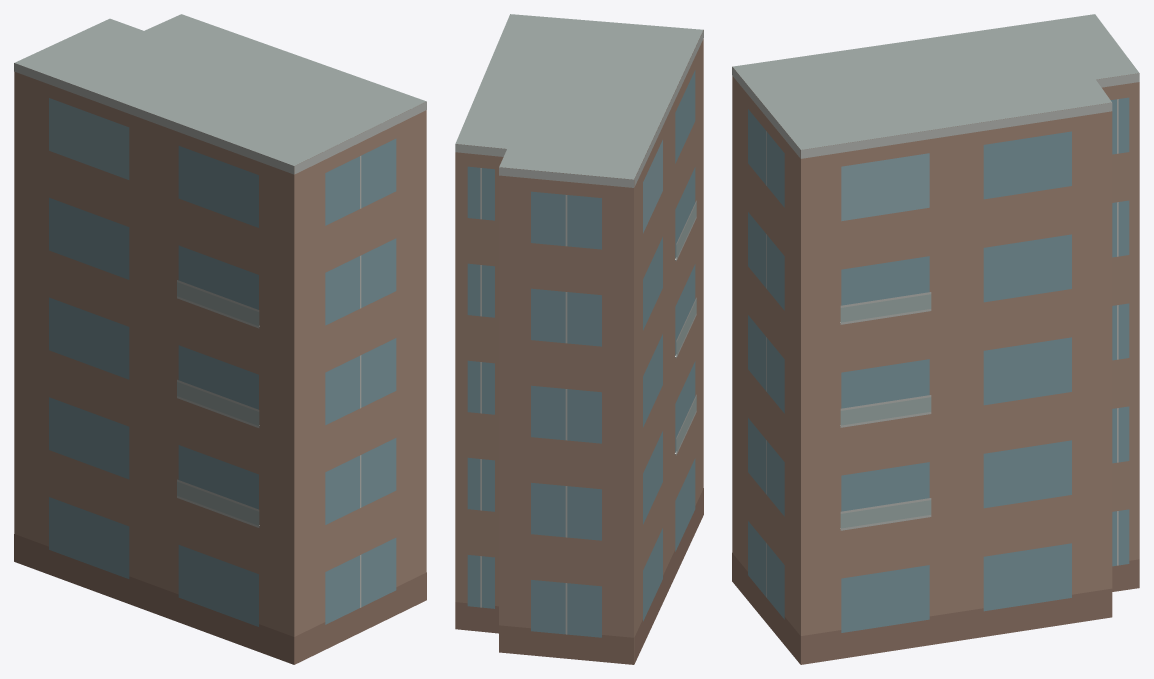
File: survey-upis-32502068.glb
3 renders of one model, left to right at view 1: azimuth 30°, elevation 25°; view 2: azimuth 150°, elevation 25°; view 3: azimuth 270°, elevation 25°, orthographic. The views are drawn at different scales.
Parts seen in each view (by area): view 1: survey-upis-32502068.tmp; view 2: survey-upis-32502068.tmp; view 3: survey-upis-32502068.tmp.
Part boxes in pixels (box(x1,y1,x2,y2)): survey-upis-32502068.tmp: box(14, 14, 426, 664); survey-upis-32502068.tmp: box(455, 14, 703, 664); survey-upis-32502068.tmp: box(732, 14, 1139, 664).
Size of the model in its own units: 8 by 14.1 by 10.12.
